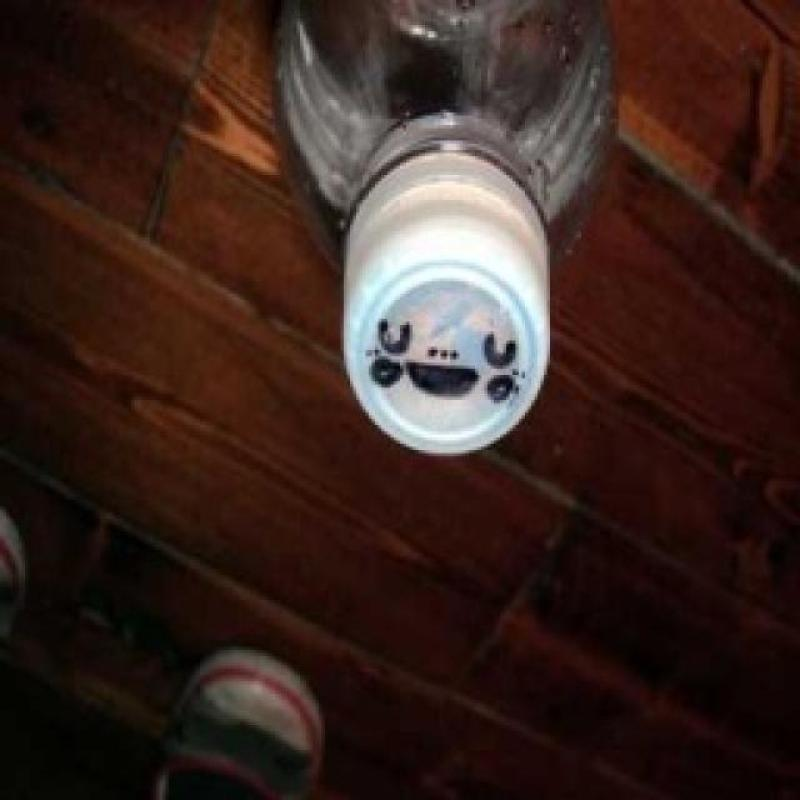botella: (277, 0, 621, 460)
